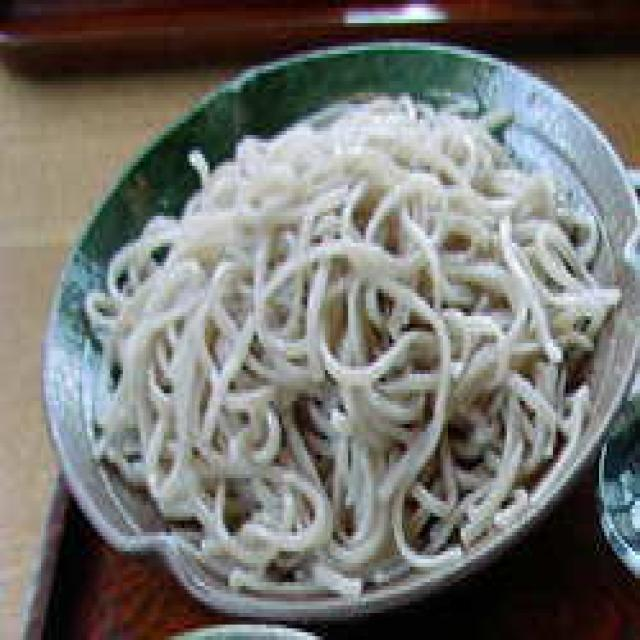面条主食: (38, 27, 640, 617)
